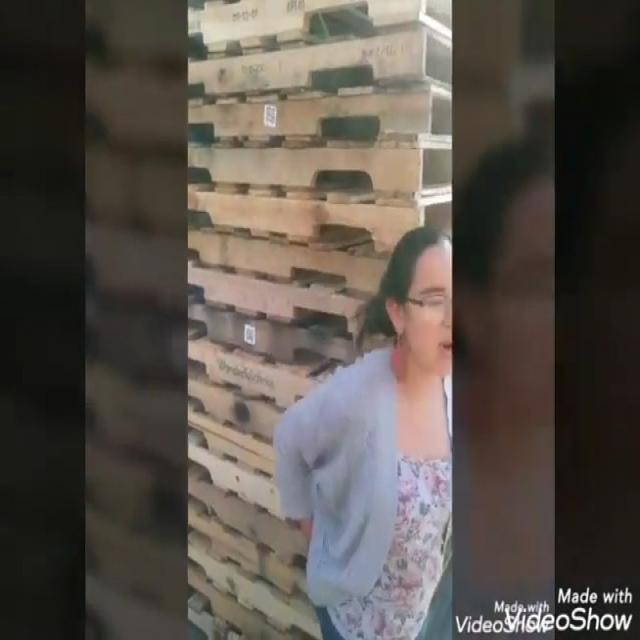Palette: (183, 0, 458, 640)
